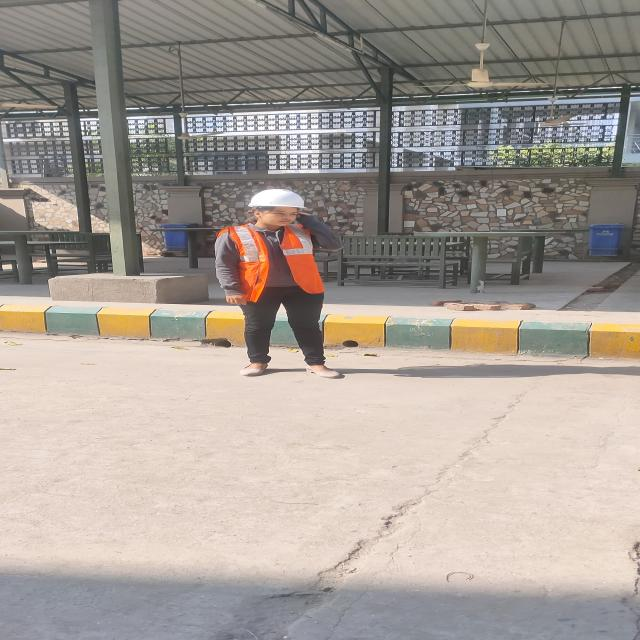safe: (214, 189, 344, 378)
